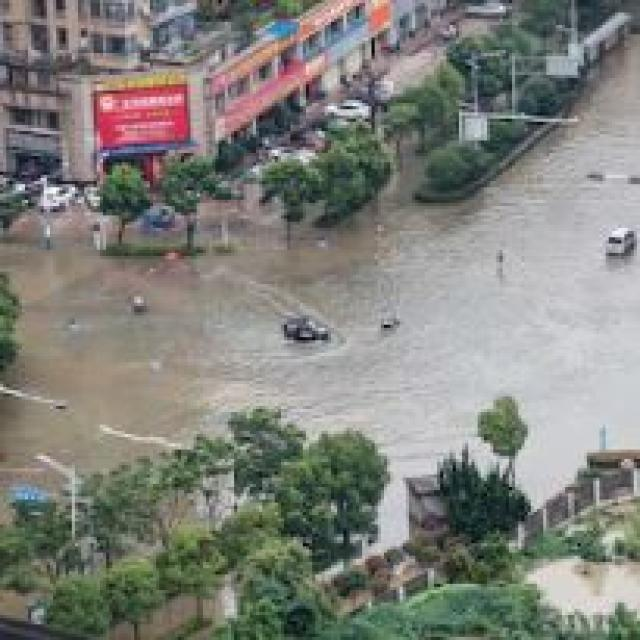flooded_areas: (0, 81, 615, 593)
